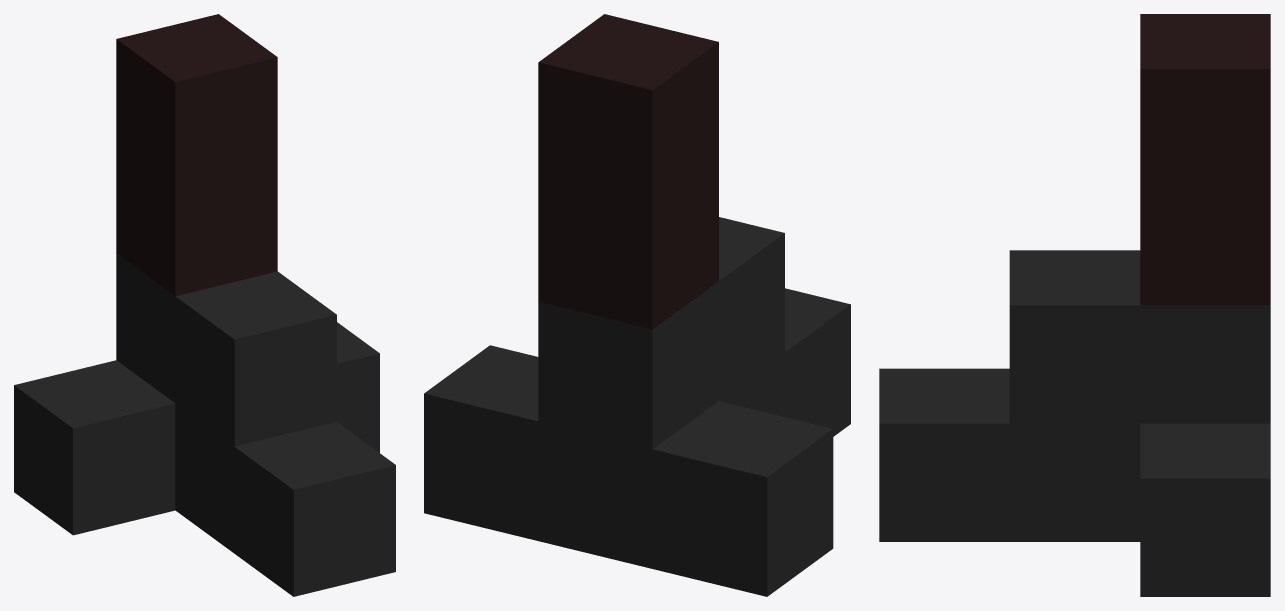
The model's file is CanonXother-18-InterstellarRunner_LandingPod_R.obj.
The picture shows the model from 3 angles, left to right: view 1: azimuth 30°, elevation 25°; view 2: azimuth 150°, elevation 25°; view 3: azimuth 270°, elevation 25°; orthographic projection. The views are drawn at different scales.
Parts seen in each view (by area): view 1: InterstellarRunner_LandingPod_R; view 2: InterstellarRunner_LandingPod_R; view 3: InterstellarRunner_LandingPod_R.
Part boxes in pixels (x1,y1,x2,y2): InterstellarRunner_LandingPod_R: (14,14,395,596); InterstellarRunner_LandingPod_R: (424,14,850,596); InterstellarRunner_LandingPod_R: (879,14,1270,596).
Bounding box in the file's own units: 0.3 × 0.4 × 0.3.
Materials: 1 (1 with a texture image).
